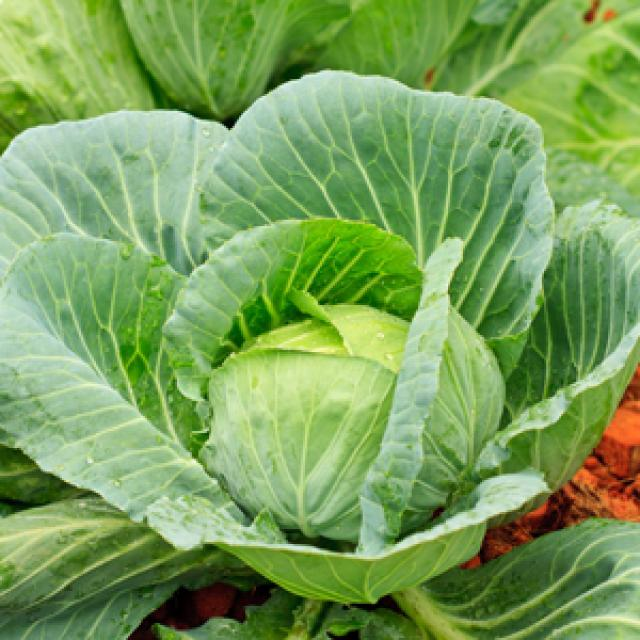Cabbage: (0, 94, 637, 613), (117, 229, 507, 544)
